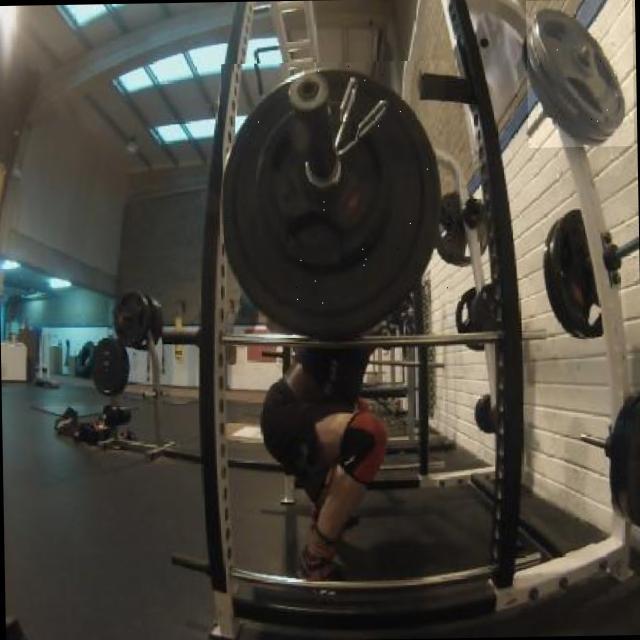barbell: (222, 61, 453, 347), (526, 1, 635, 148)
